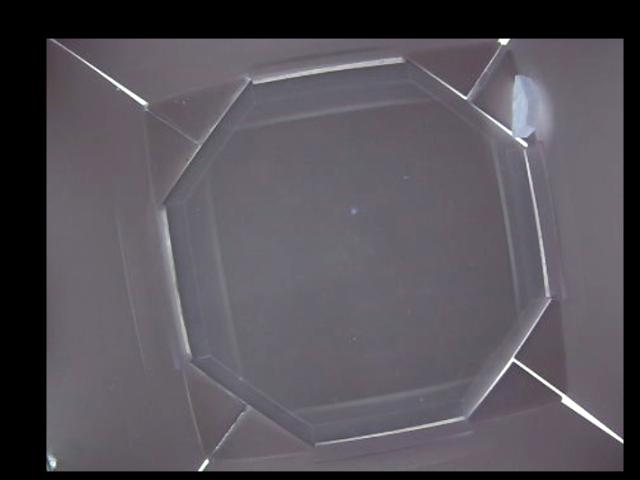China: (511, 74, 542, 139)
